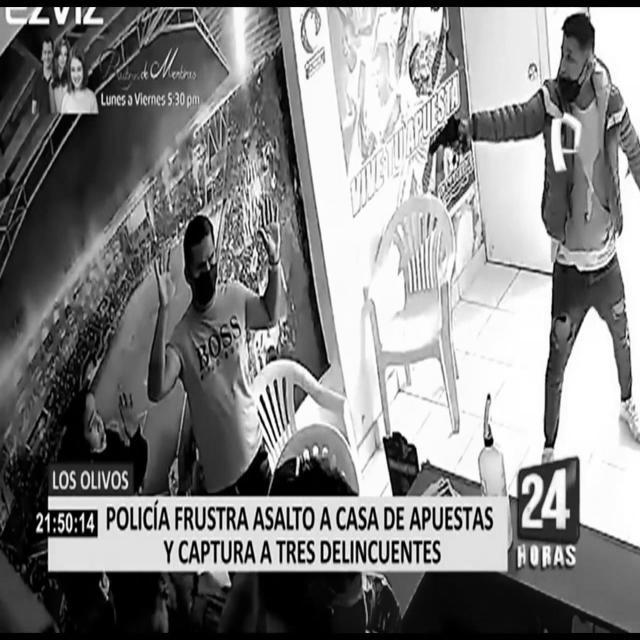Gun: (424, 100, 476, 173)
